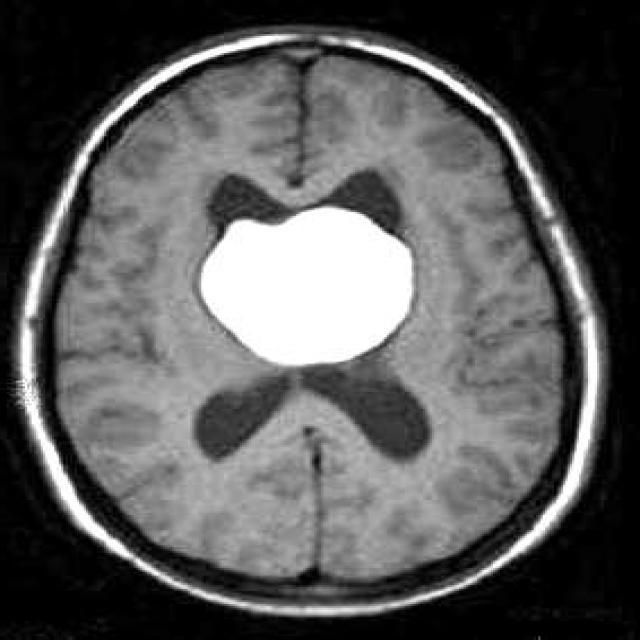tumor: (194, 204, 412, 369)
